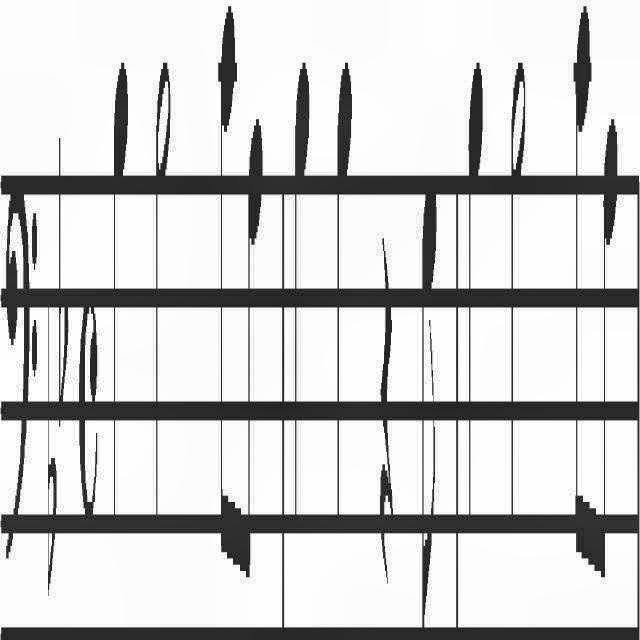Bemol: (46, 290, 59, 608), (59, 116, 70, 420)
Eighth-note: (217, 0, 238, 584), (573, 2, 593, 578), (597, 96, 619, 588), (244, 99, 264, 581), (422, 176, 436, 628)
Half-note: (509, 53, 526, 519), (156, 46, 172, 518)
Quarter-note: (336, 60, 354, 552), (112, 43, 128, 545), (294, 53, 310, 545), (468, 53, 484, 519)
Quarter-rest: (380, 218, 396, 598)
